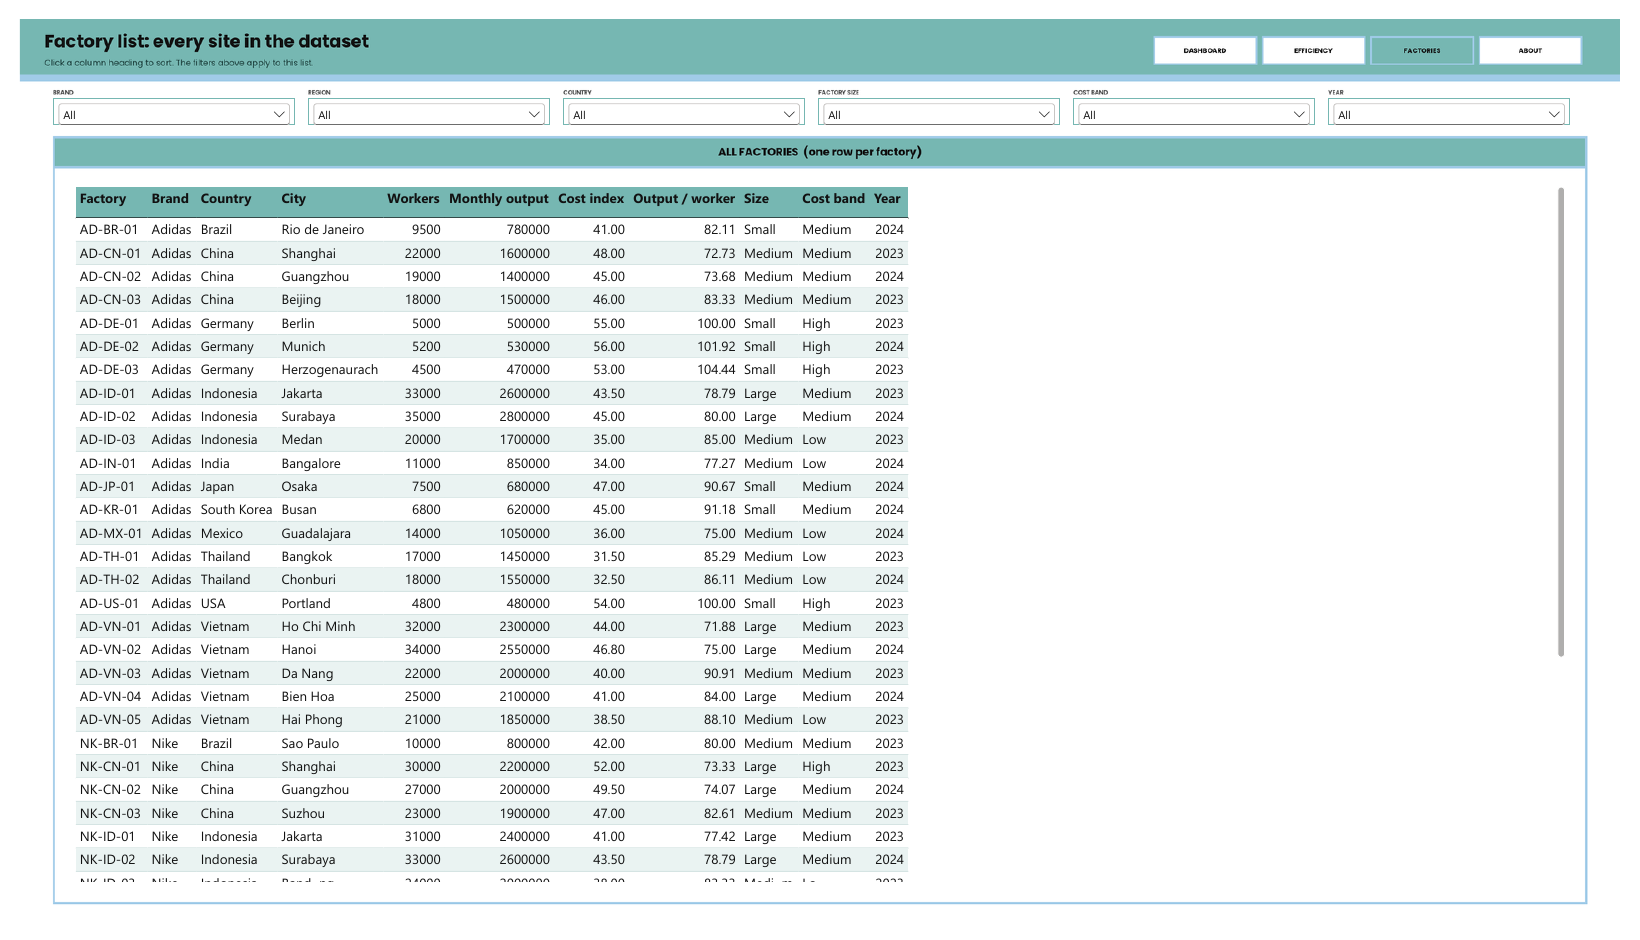

The dashboard page shown, as its layout file describes it:
{"tool":"powerbi","page":{"name":"Factories","canvas":[1920,1080],"ordinal":2},"visuals":[{"type":"tableEx","fields":{"Values":["dim_factory.factory_code","dim_brand.brand_name","dim_country.country_name","dim_location.city","fact_factory_snapshot.workers","fact_factory_snapshot.monthly_output","fact_factory_snapshot.production_cost_index","fact_factory_snapshot.output_per_worker","fact_factory_snapshot.size_tier","fact_factory_snapshot.cost_band","fact_factory_snapshot.year_key"]},"box":[50,186,1820,864],"z":1500},{"type":"slicer","fields":{"Values":["dim_brand.brand_name"]},"box":[40,94,290,32],"z":7043},{"type":"slicer","fields":{"Values":["dim_country.region"]},"box":[346,94,290,32],"z":7044},{"type":"slicer","fields":{"Values":["dim_country.country_name"]},"box":[652,94,290,32],"z":7045},{"type":"slicer","fields":{"Values":["fact_factory_snapshot.size_tier"]},"box":[958,94,290,32],"z":7046},{"type":"slicer","fields":{"Values":["fact_factory_snapshot.cost_band"]},"box":[1264,94,290,32],"z":7047},{"type":"slicer","fields":{"Values":["fact_factory_snapshot.year_key"]},"box":[1570,94,290,32],"z":7048},{"type":"actionButton","box":[1360,20,124,34],"z":9050},{"type":"actionButton","box":[1490,20,124,34],"z":9051},{"type":"actionButton","box":[1620,20,124,34],"z":9052},{"type":"actionButton","box":[1750,20,124,34],"z":9053}]}

Visuals, with their boxes in screenshot pixels (x1, y1, x2, y2), scaled from the page's 1920x1080 canvas onto the 1640x940 screenshot:
tableEx - dim_factory.factory_code x dim_brand.brand_name: [left=43, top=162, right=1597, bottom=914]
slicer - dim_brand.brand_name: [left=34, top=82, right=282, bottom=110]
slicer - dim_country.region: [left=296, top=82, right=543, bottom=110]
slicer - dim_country.country_name: [left=557, top=82, right=805, bottom=110]
slicer - fact_factory_snapshot.size_tier: [left=818, top=82, right=1066, bottom=110]
slicer - fact_factory_snapshot.cost_band: [left=1080, top=82, right=1327, bottom=110]
slicer - fact_factory_snapshot.year_key: [left=1341, top=82, right=1589, bottom=110]
actionButton: [left=1162, top=17, right=1268, bottom=47]
actionButton: [left=1273, top=17, right=1379, bottom=47]
actionButton: [left=1384, top=17, right=1490, bottom=47]
actionButton: [left=1495, top=17, right=1601, bottom=47]
